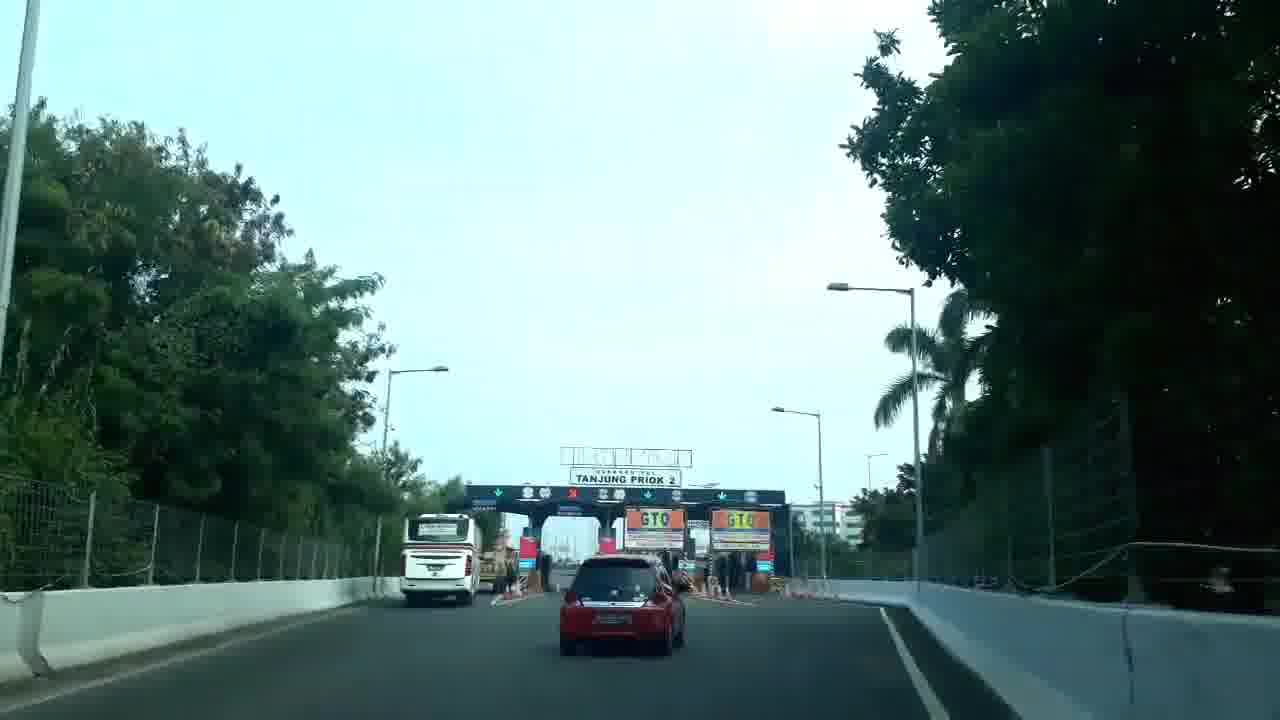plate_positive: (594, 614, 628, 624)
